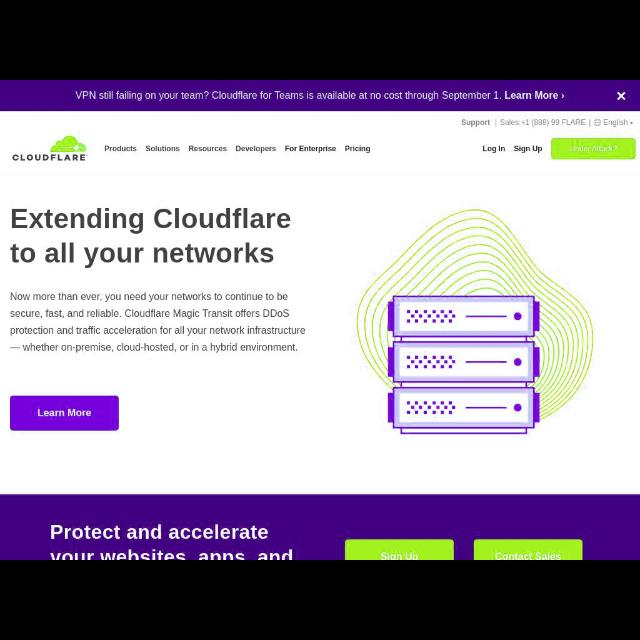icon: (594, 116, 604, 128)
iframe: (3, 82, 639, 110)
image: (318, 180, 638, 484), (10, 135, 91, 163)
text: (12, 208, 294, 232), (11, 242, 280, 264), (9, 289, 290, 307), (48, 520, 272, 542), (9, 322, 309, 338), (9, 342, 304, 353), (10, 308, 292, 318), (47, 554, 305, 558), (285, 142, 337, 154), (491, 551, 569, 559), (101, 142, 139, 156), (536, 119, 590, 128), (375, 550, 433, 558), (146, 142, 182, 154), (343, 142, 373, 156), (498, 115, 530, 126), (186, 144, 228, 152), (234, 144, 276, 152), (514, 144, 544, 154), (479, 144, 508, 154), (458, 119, 490, 128), (606, 120, 632, 126)
textbutton: (10, 395, 120, 431), (474, 539, 580, 559), (346, 540, 452, 556), (552, 141, 636, 157)
toolbar: (1, 115, 639, 175)
